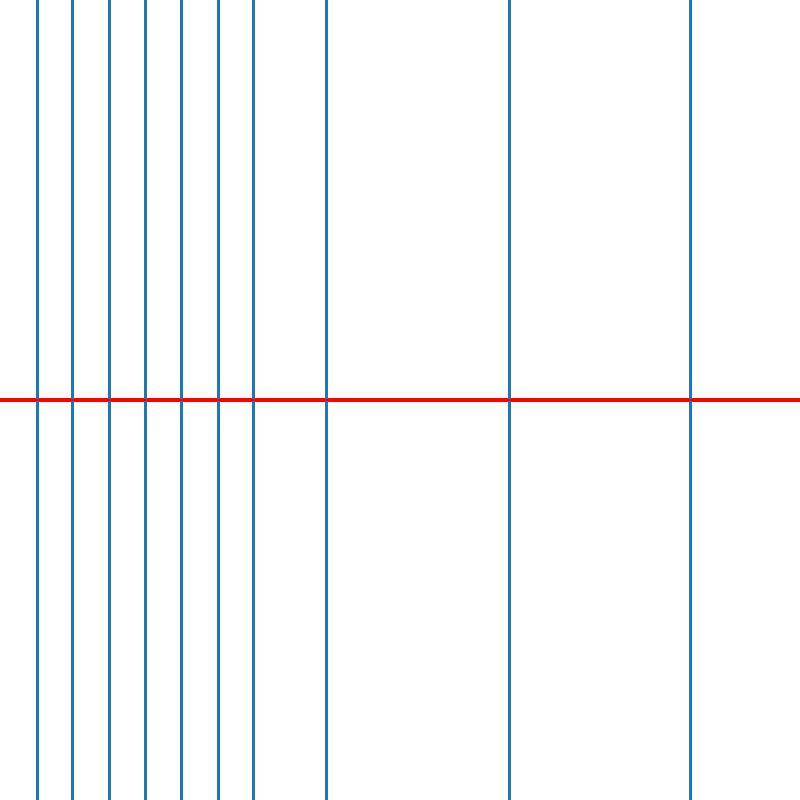root: (32, 396, 40, 404), (250, 396, 258, 404), (141, 396, 149, 404), (214, 396, 221, 404), (505, 396, 512, 404), (323, 396, 330, 404), (69, 396, 76, 404), (105, 396, 112, 404), (687, 396, 694, 404), (178, 396, 185, 404)
